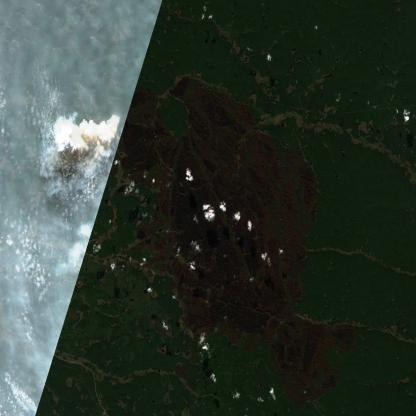fire: (106, 107, 132, 145)
